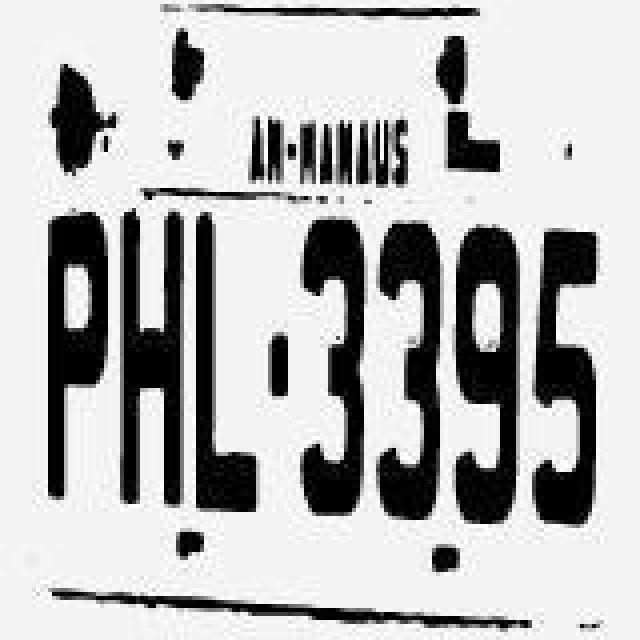3: (294, 214, 378, 522), (380, 216, 452, 528)
5: (526, 214, 610, 530)
9: (446, 220, 522, 532)
H: (114, 210, 190, 510)
L: (192, 212, 272, 524)
P: (30, 214, 114, 506)
